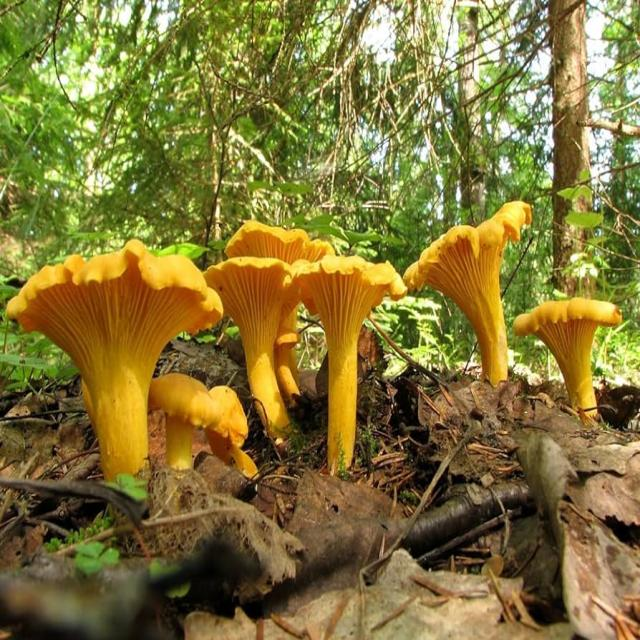chanterelle: (6, 241, 225, 485), (296, 257, 407, 477), (402, 201, 533, 387), (204, 256, 303, 431), (511, 298, 624, 425), (149, 373, 221, 467)
